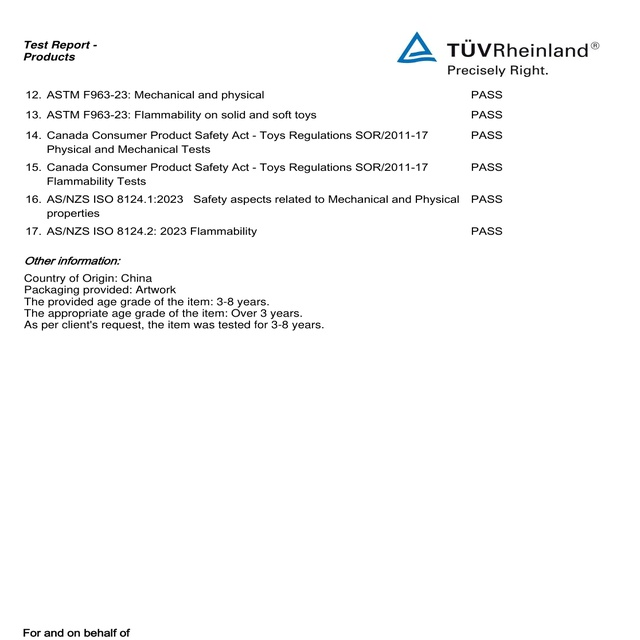tuv_rheinland: (394, 30, 602, 65)
